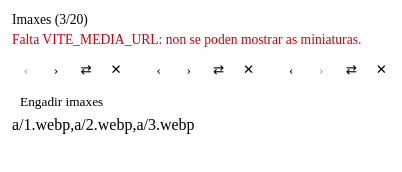
Scenario: ImageManager › reorders and removes images
Expected: the 1st button titled "Mover cara atrás" is disabled, x1=12 y1=56 x2=40 y2=84
Click the 1st button titled "Mover cara adiante" at point(56, 70), box x1=42 y1=56 x2=70 y2=84
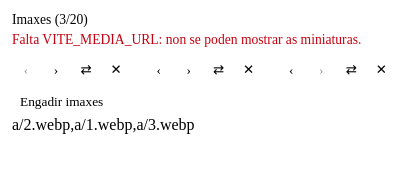
Expected: the text with test id "keys" reads "a/2.webp,a/1.webp,a/3.webp", x1=12 y1=116 x2=195 y2=133
Click the 1st button titled "Eliminar" at point(116, 70), box x1=102 y1=56 x2=130 y2=84
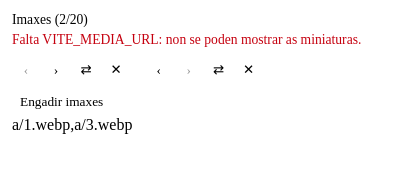
Expected: the text with test id "keys" reads "a/1.webp,a/3.webp", x1=12 y1=116 x2=132 y2=133
